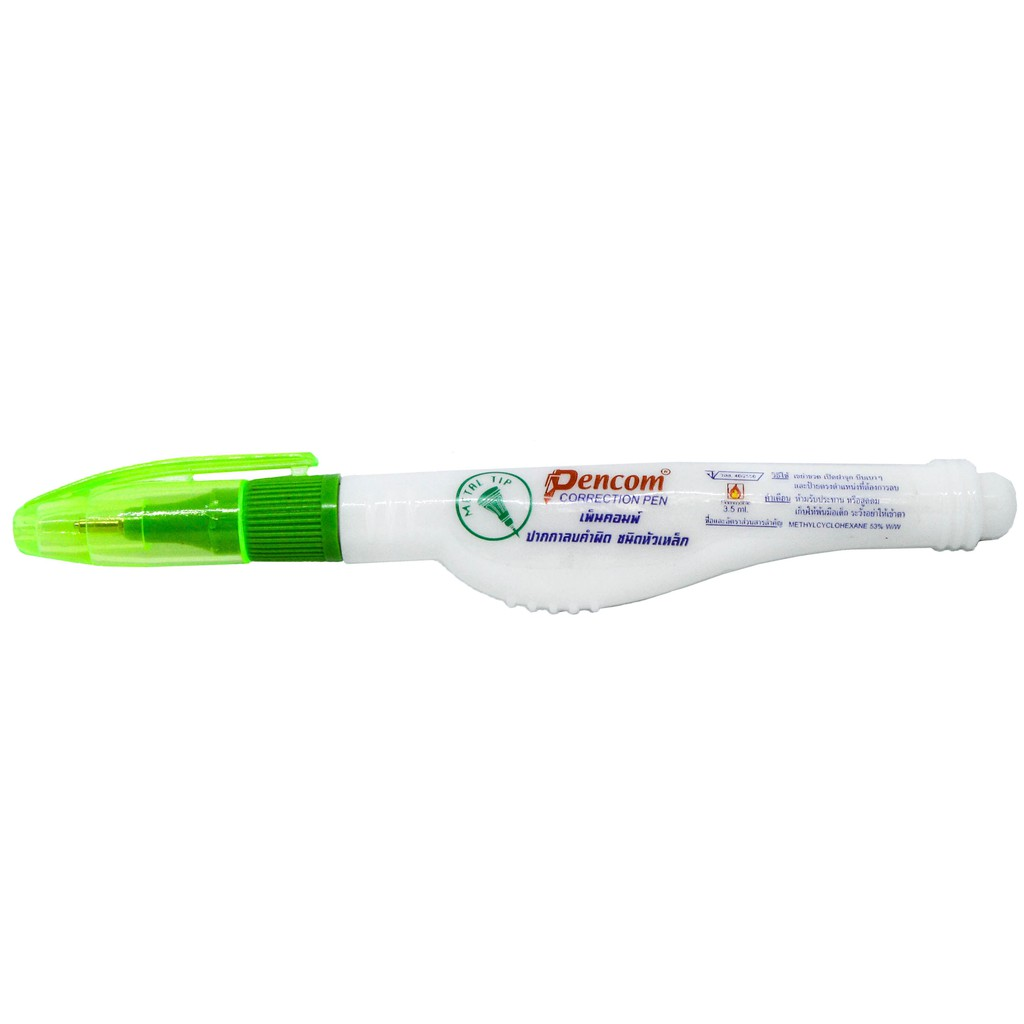Correction_fluid: (8, 443, 1024, 620)
